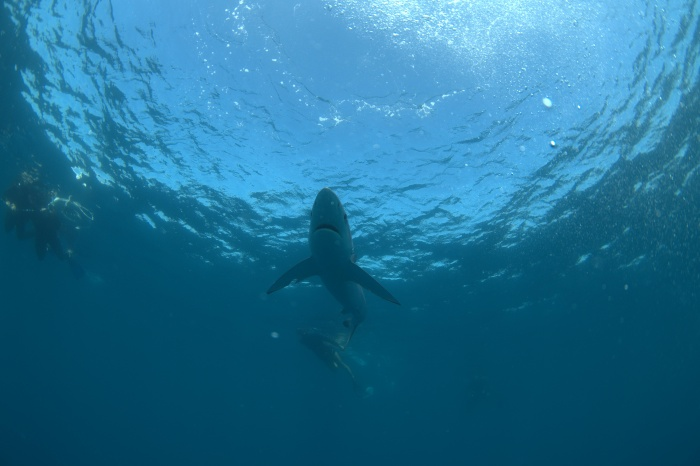Azul: (233, 182, 420, 360)
